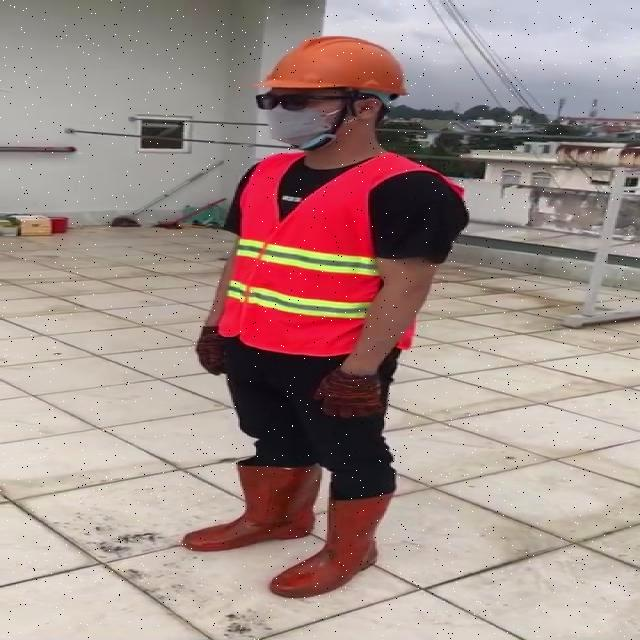Hard_hat: (249, 32, 417, 112)
Person: (184, 23, 464, 631)
Vest: (225, 147, 387, 361)
